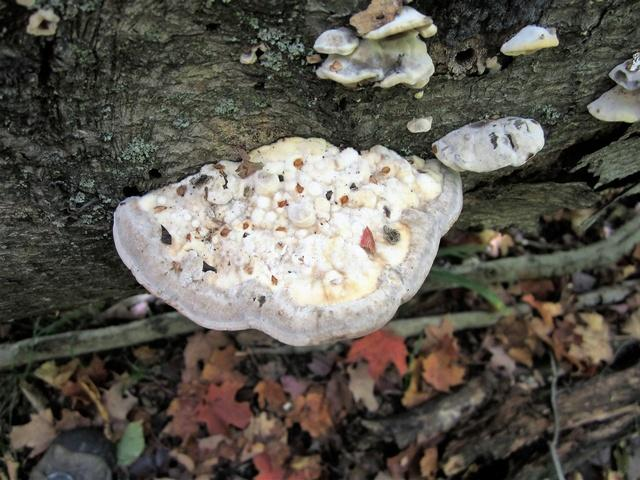Non-edible Mushroom: (111, 134, 465, 347), (313, 0, 453, 98), (434, 106, 557, 172), (578, 48, 640, 134), (499, 15, 563, 61)
